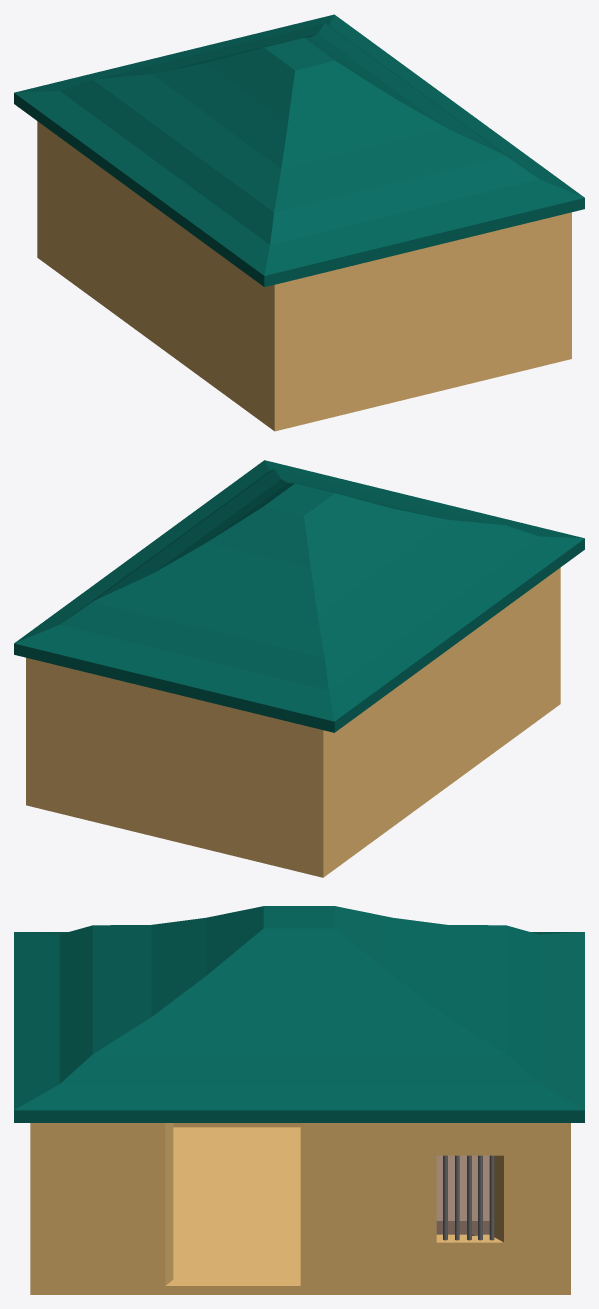
File: casa_esperienza.glb
3 renders of one model, top to bottom at view 1: azimuth 30°, elevation 25°; view 2: azimuth 150°, elevation 25°; view 3: azimuth 270°, elevation 25°, orthographic. The views are drawn at different scales.
Visible parts, largest first — view 1: Cube.003_Cube.004, Cube.158; view 2: Cube.003_Cube.004, Cube.158; view 3: Cube.003_Cube.004, Cube.158, bench, Cylinder.009.
Boxes of the visible parts, bbox=[...] form: Cube.003_Cube.004: bbox=[14, 14, 584, 287]; Cube.158: bbox=[37, 121, 571, 431]; Cube.003_Cube.004: bbox=[14, 460, 584, 732]; Cube.158: bbox=[26, 567, 560, 877]; Cube.003_Cube.004: bbox=[14, 906, 584, 1122]; Cube.158: bbox=[30, 1123, 570, 1294]; bench: bbox=[436, 1155, 489, 1235]; Cylinder.009: bbox=[489, 1155, 494, 1240].
Size of the model in its own units: 4.39 by 3.35 by 5.94.
6 materials, 3 textured.
